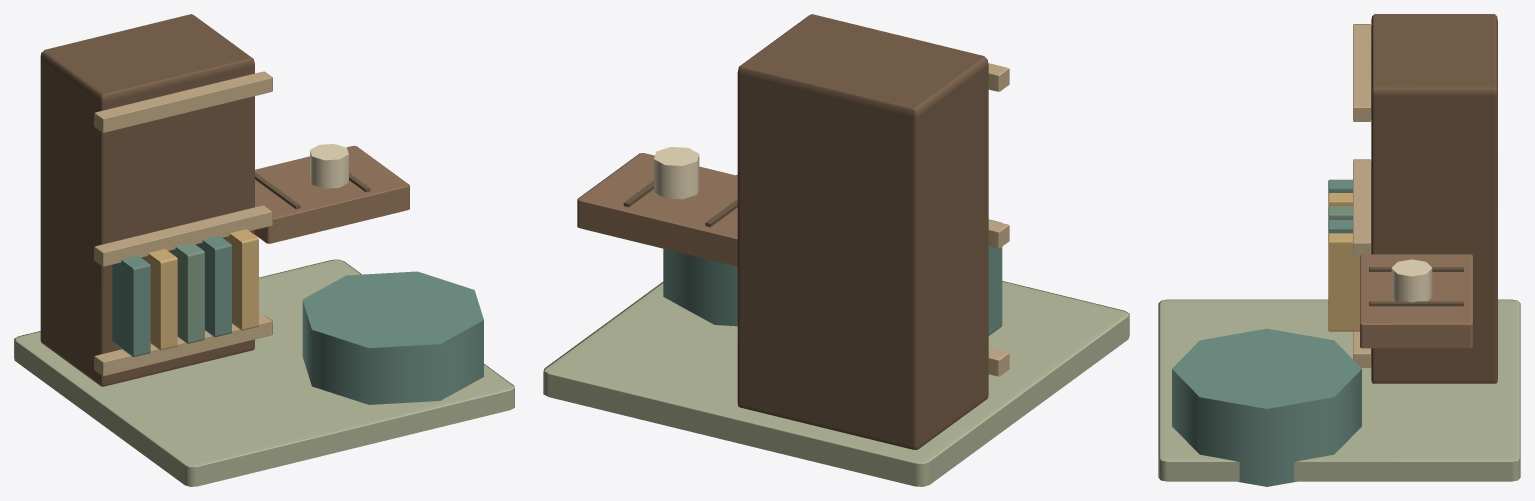
File: readingnook-1.glb
3 views of the same model, side by side, from view 1: azimuth 30°, elevation 25°; view 2: azimuth 150°, elevation 25°; view 3: azimuth 270°, elevation 25° (orthographic). The views are drawn at different scales.
Parts seen in each view (by area): view 1: readingnook-1-0; view 2: readingnook-1-0; view 3: readingnook-1-0.
Part boxes in pixels (x1=…): readingnook-1-0: x1=14, y1=14, x2=514, y2=486; readingnook-1-0: x1=543, y1=14, x2=1129, y2=486; readingnook-1-0: x1=1158, y1=14, x2=1520, y2=486.
Bounding box in the file's own units: 0.875 × 0.77 × 0.8.
